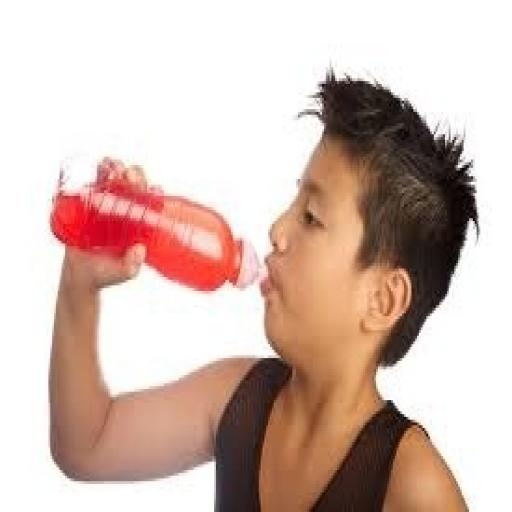drinking: (48, 151, 259, 294)
